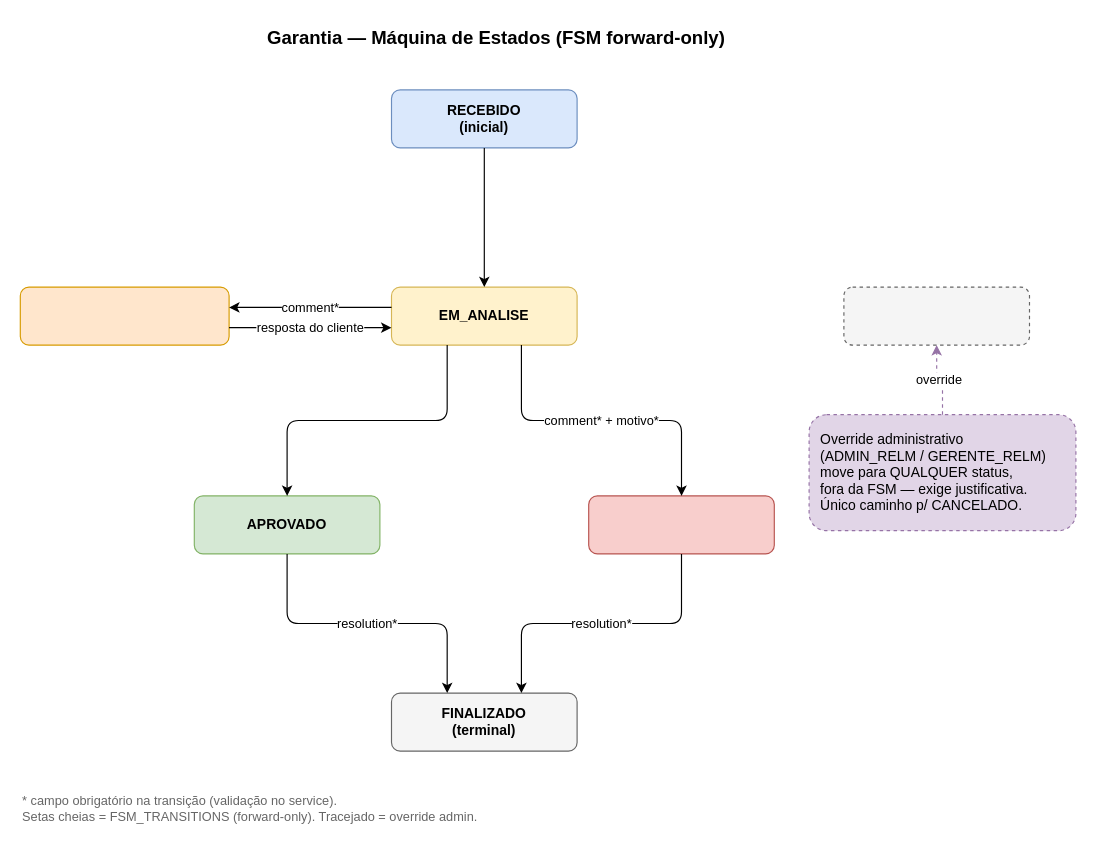
The diagram is 1096 pixels wide and 851 high, and some of its shapes have lost their labels. Here are the shapes that lost their labels. From the top down, the centre of each, then its label:
(124,315): AGUARDANDO_CLIENTE
(936,315): CANCELADO (terminal)
(681,524): REPROVADO
